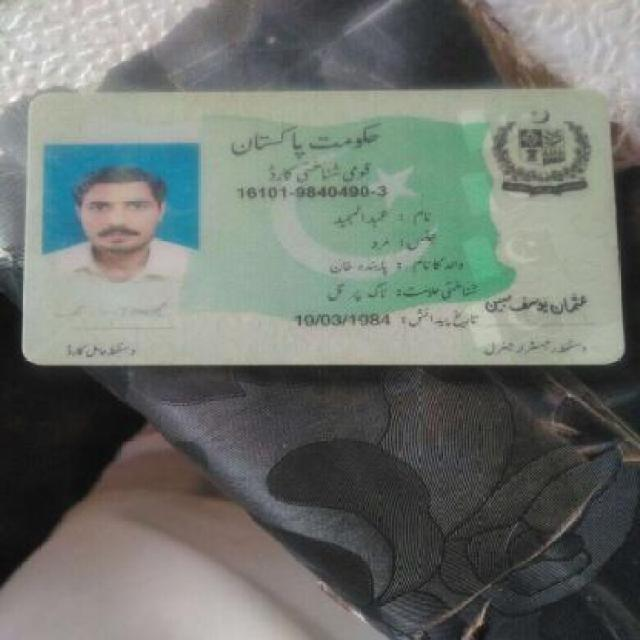Front: (14, 82, 629, 370)
